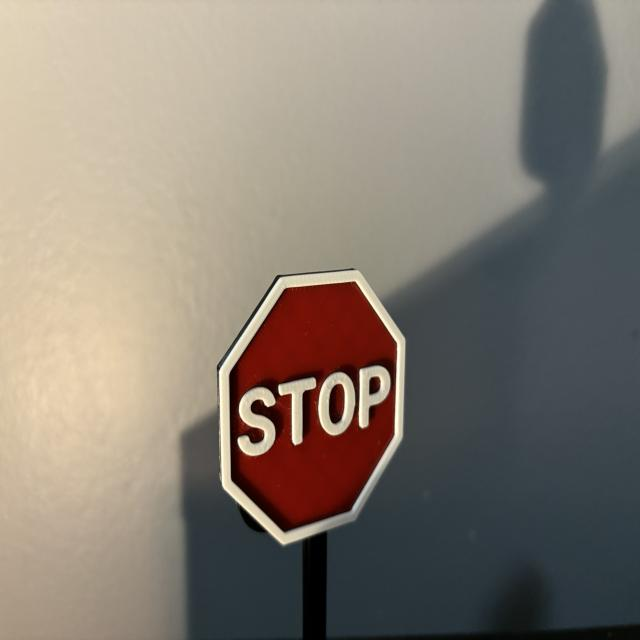sign_stop: (221, 272, 406, 546)
